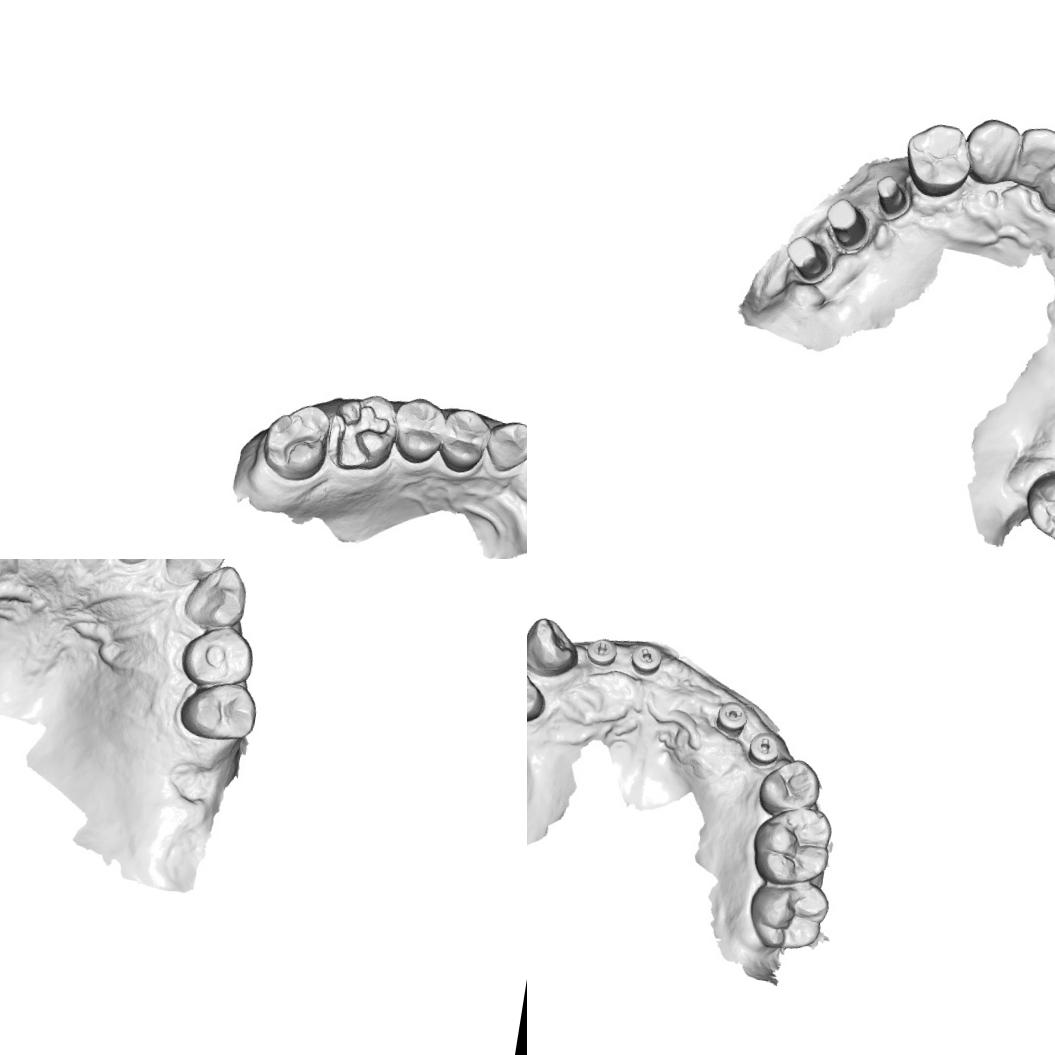abutment: (780, 230, 837, 287), (820, 194, 872, 252), (870, 171, 914, 224)
canine: (178, 559, 254, 634), (960, 113, 1024, 184), (527, 613, 584, 682), (481, 414, 527, 477)
implant_minus: (712, 698, 751, 741), (745, 728, 782, 770), (627, 640, 664, 678), (583, 634, 621, 670)
incisor: (160, 559, 233, 594), (1013, 122, 1055, 182)
inlay: (324, 397, 393, 474)
molar: (747, 800, 837, 892), (742, 872, 834, 958), (256, 396, 336, 486), (1018, 466, 1055, 550)
premolar: (898, 116, 978, 202), (175, 673, 262, 747), (176, 619, 260, 693), (755, 754, 825, 824), (388, 392, 450, 468), (436, 405, 494, 476), (527, 661, 550, 726)
